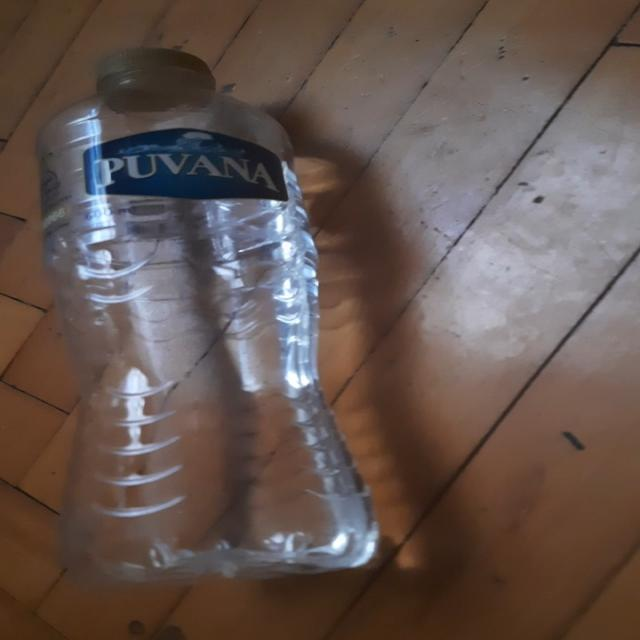Plastic: (36, 48, 380, 599), (31, 123, 305, 210), (100, 48, 202, 82)
